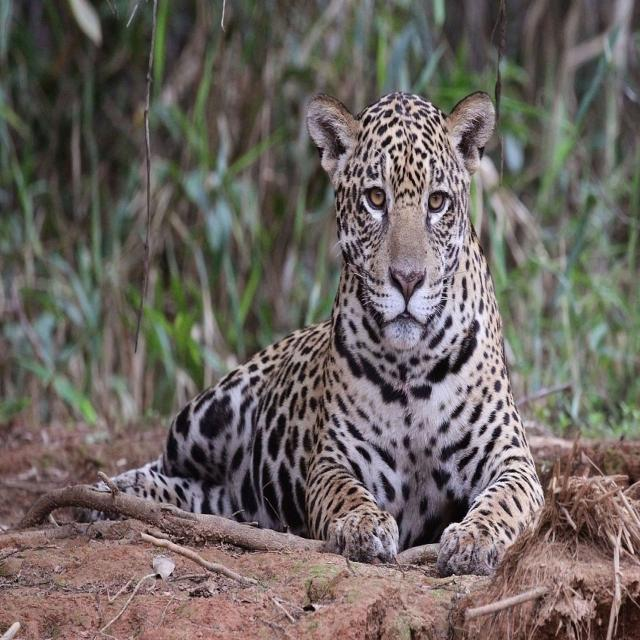Jaguar: (119, 89, 544, 572)
